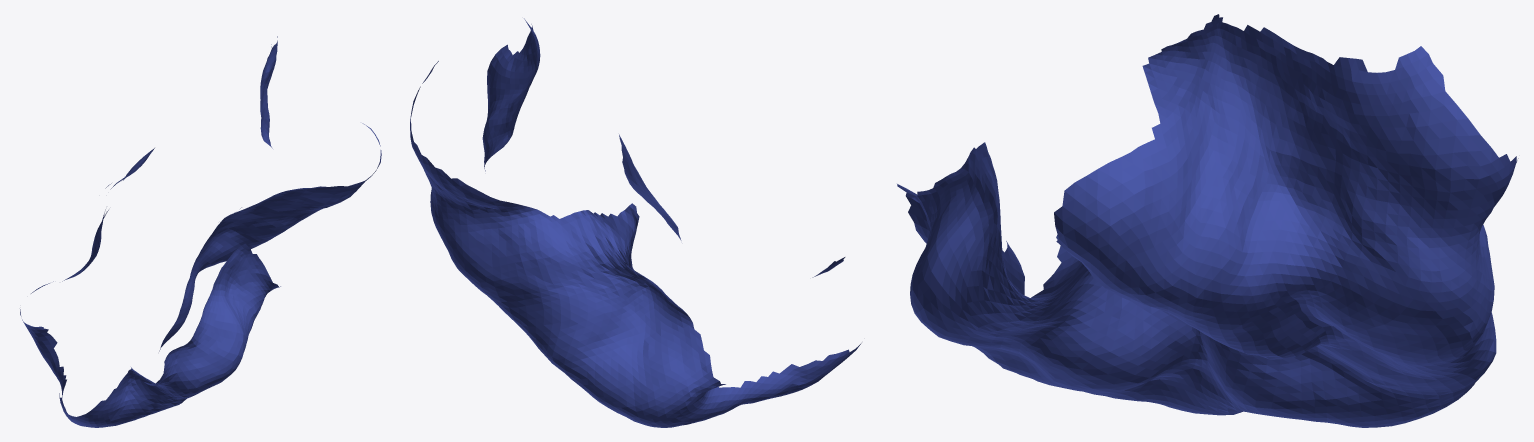
Rendered from rh_lateraloccipital.glb.
The picture shows the model from 3 angles, left to right: view 1: azimuth 30°, elevation 25°; view 2: azimuth 150°, elevation 25°; view 3: azimuth 270°, elevation 25°; orthographic projection. The views are drawn at different scales.
Parts seen in each view (by area): view 1: world; view 2: world; view 3: world.
Part boxes in pixels (left/top/right/bottom): world: left=20, top=36, right=381, bottom=427; world: left=410, top=18, right=861, bottom=427; world: left=897, top=14, right=1518, bottom=427.
Bounding box in the file's own units: 45.74 × 41.04 × 41.2.
